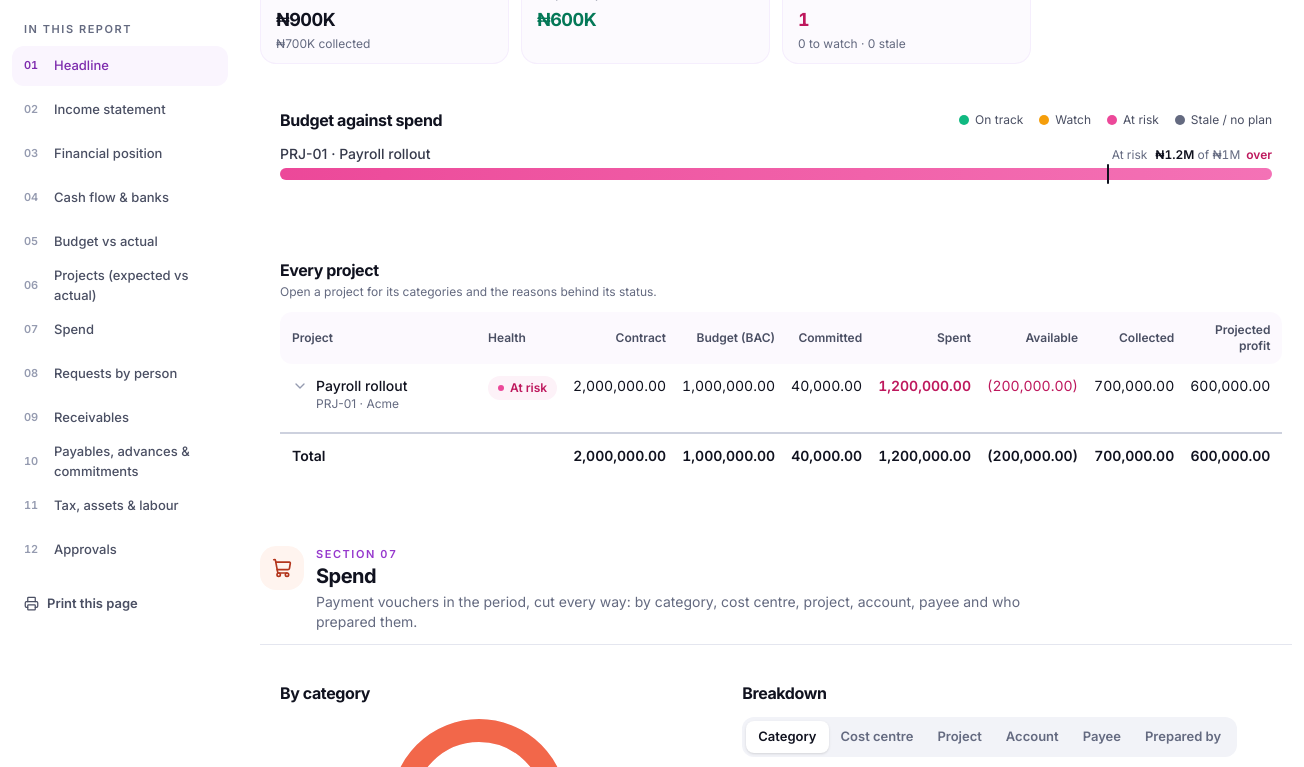
Company report › opens a project row to show its categories and reasons
(page scrolled)
Click the button "Payroll rollout PRJ-01 · Acme". click: (382, 398)
box: x1=292 y1=376 x2=472 y2=420
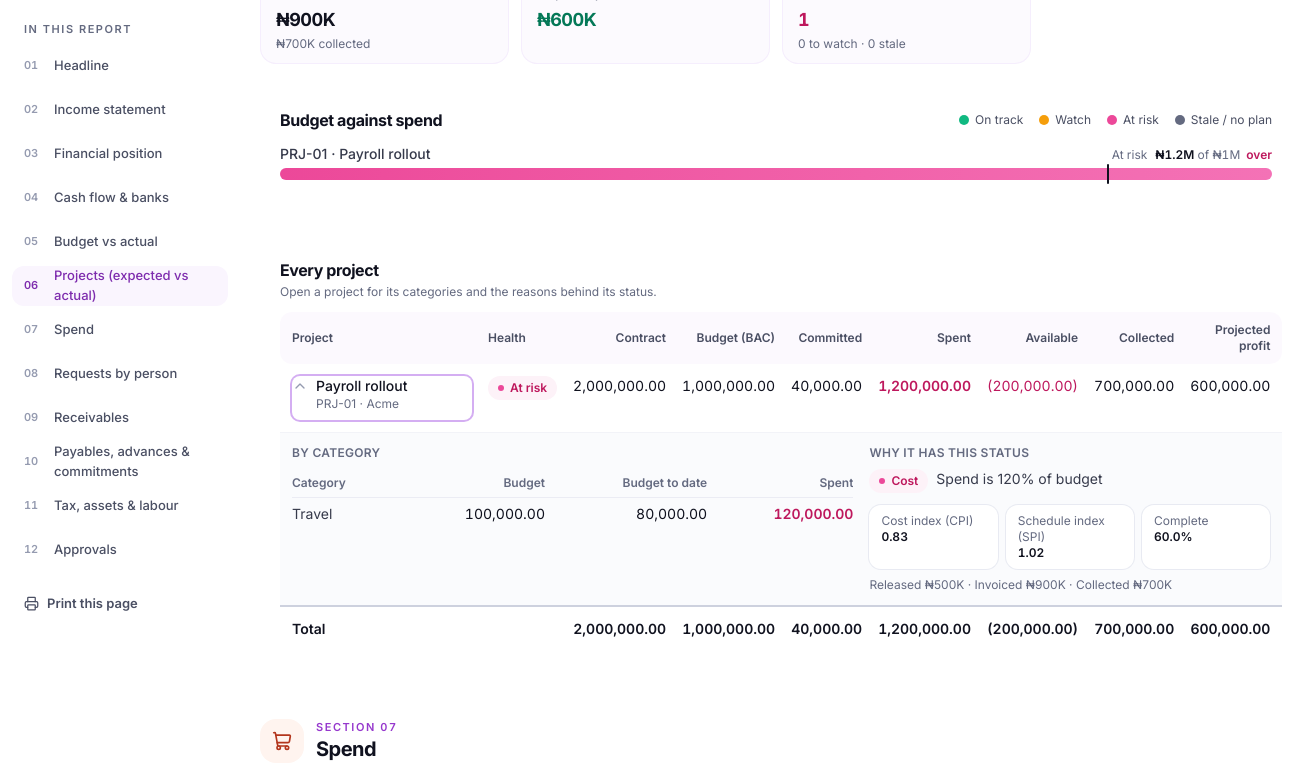
Result: the text "Spend is 120% of budget" is shown at x1=936 y1=469 x2=1103 y2=489
Result: the table named "Payroll rollout: budget and spend by category" is shown at x1=292 y1=469 x2=853 y2=530
